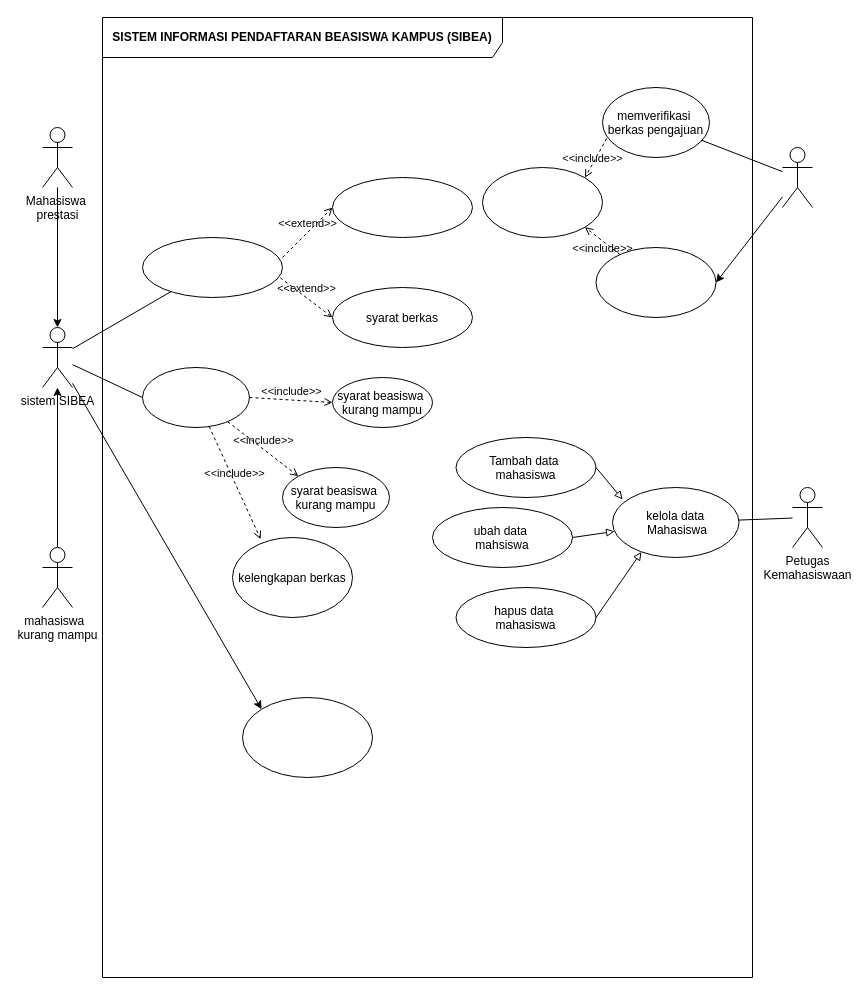
This 868x995 diagram has some shape labels left out. The centre of each missing label's shape, as x and y in pixels:
melihat daftar beasiswa: the point at 212,267
memeriksa status pengajuan: the point at 307,737
memperbarui status pengajuan: the point at 542,202
mengajukan beasiswa: the point at 196,397
mengumumkan hasil seleksi: the point at 655,282
status pendaftaran: the point at 402,207
Tim Seleksi: the point at 797,177
